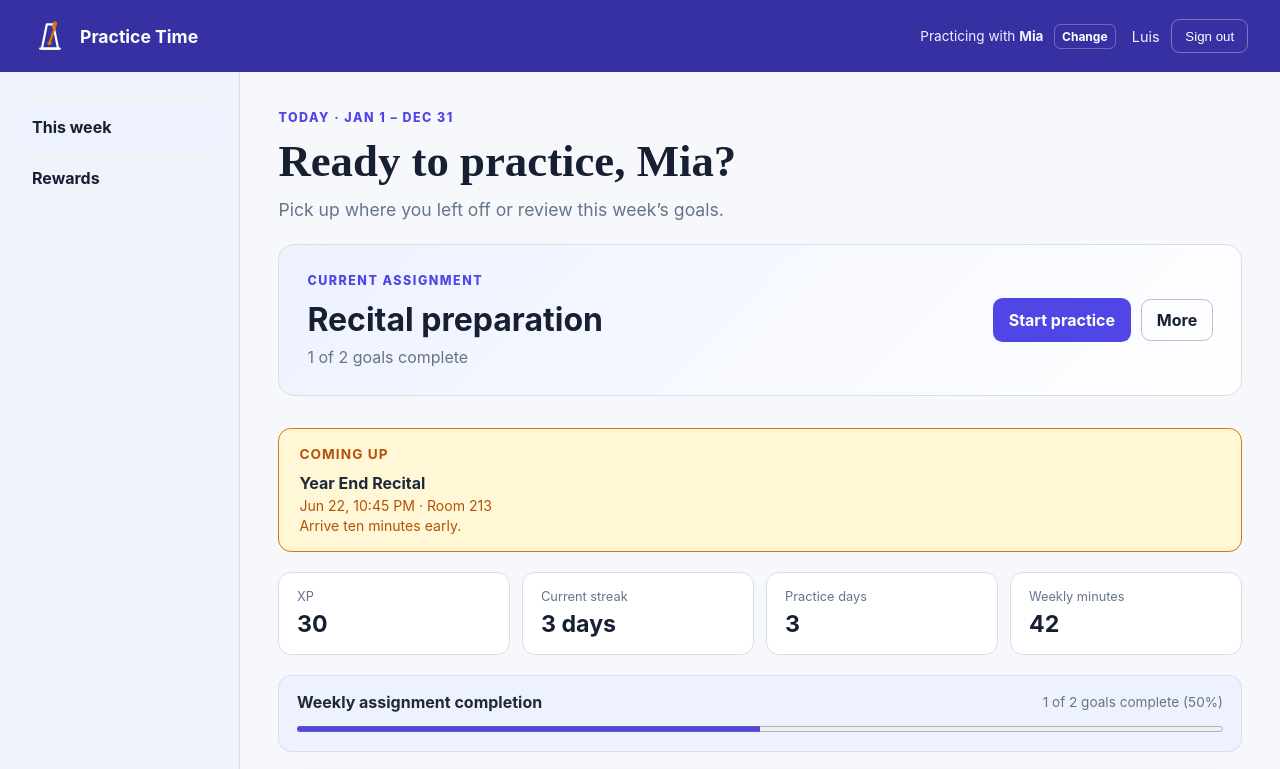
Test: authentication flow › shows the selected student current assignment, progress, notices, and rewards
Check: the heading "Ready to practice, Mia?" is shown, box x1=278 y1=137 x2=736 y2=187
Check: the text "Year End Recital" is shown, box x1=299 y1=473 x2=425 y2=493
Click the link "Start practice".
click(1062, 320)  # box x1=993 y1=298 x2=1131 y2=342
(page scrolled)
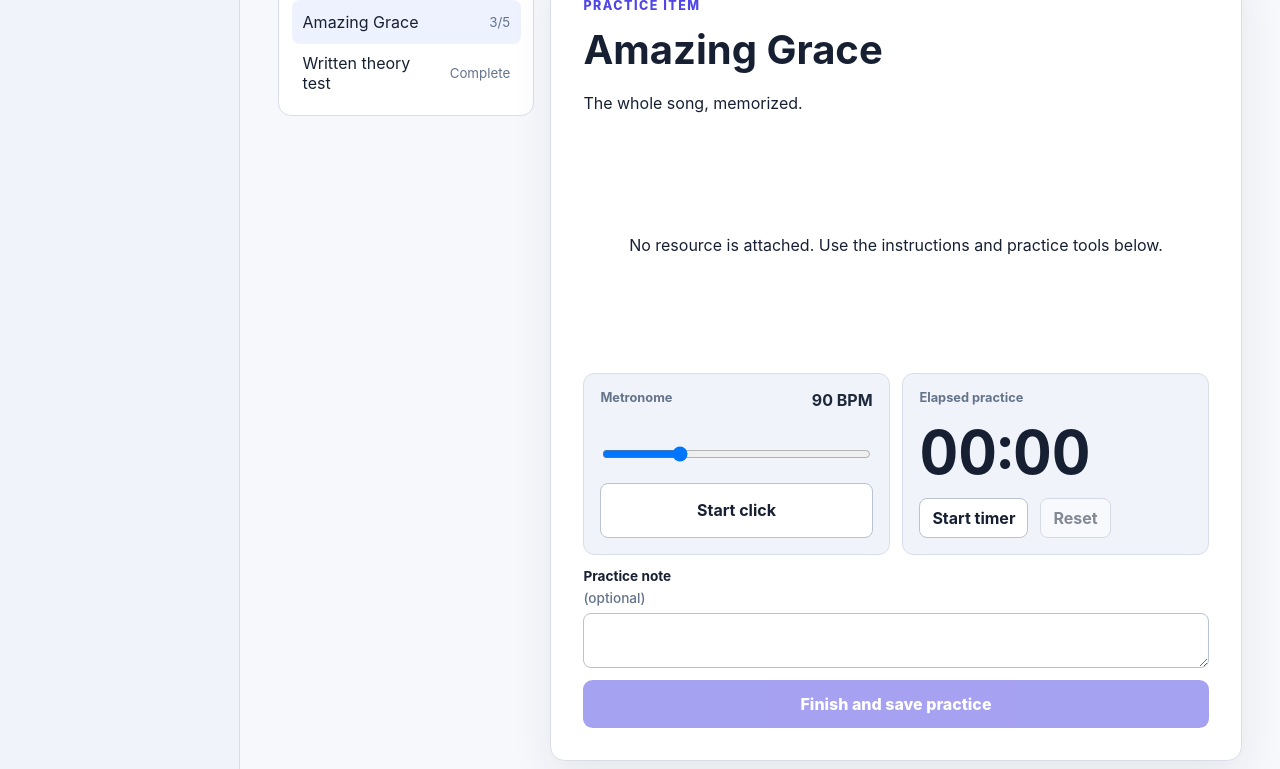
Check: the text "The whole song, memorized." is shown, box x1=583 y1=93 x2=803 y2=113
Check: the element named "Practice timer and metronome" is shown, box x1=583 y1=373 x2=1209 y2=728
Check: the button "Start timer" is shown
Click the button "Start timer".
click(974, 518)  # box x1=919 y1=498 x2=1028 y2=538
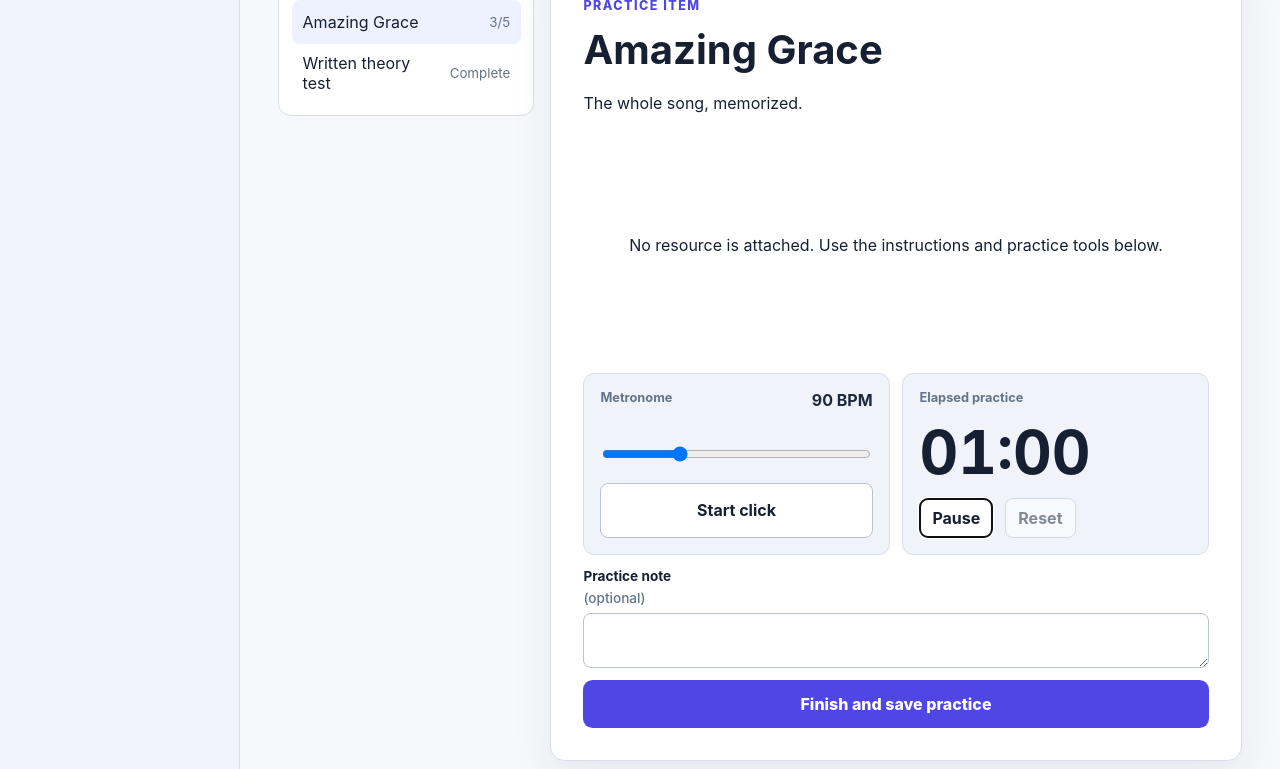
Check: the text "01:00" is shown, box x1=919 y1=416 x2=1091 y2=488
Click the button "Pause".
click(956, 518)  # box x1=919 y1=498 x2=993 y2=538
(page scrolled)
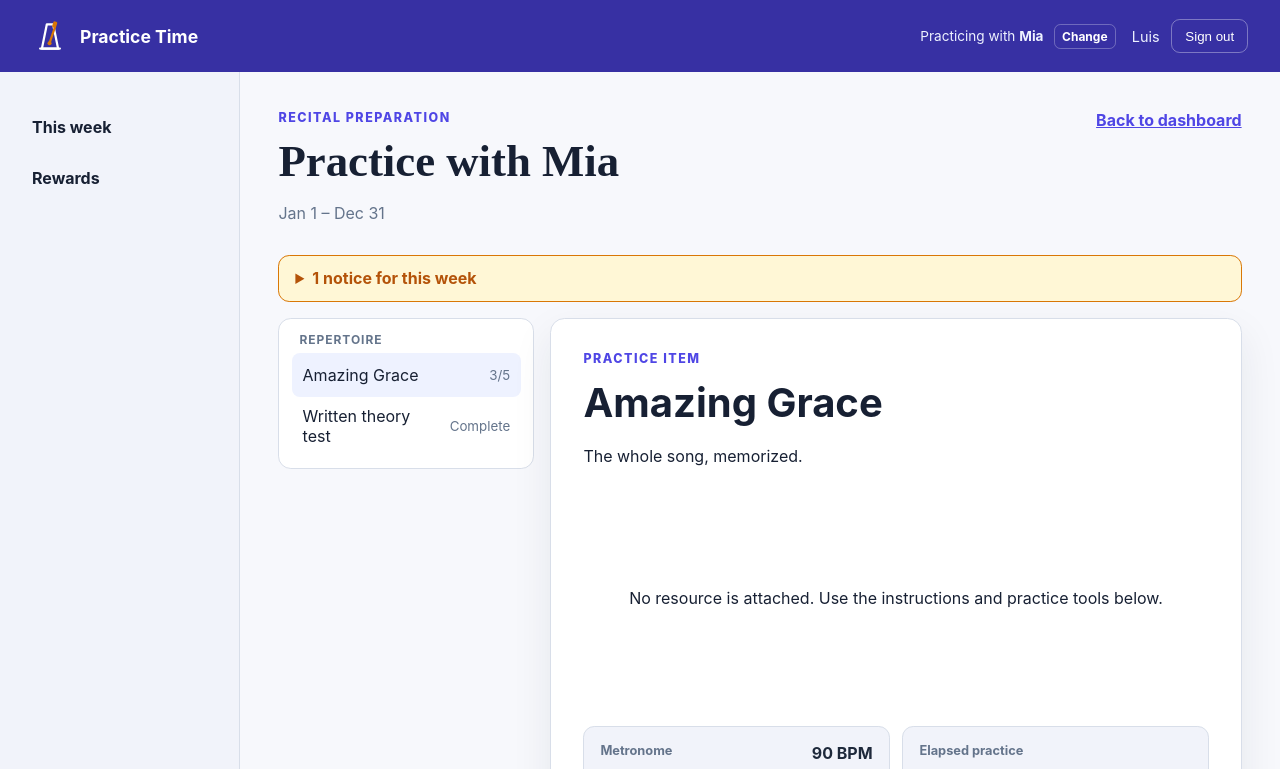
Click the link "Rewards".
click(66, 178)  # box x1=32 y1=168 x2=100 y2=188
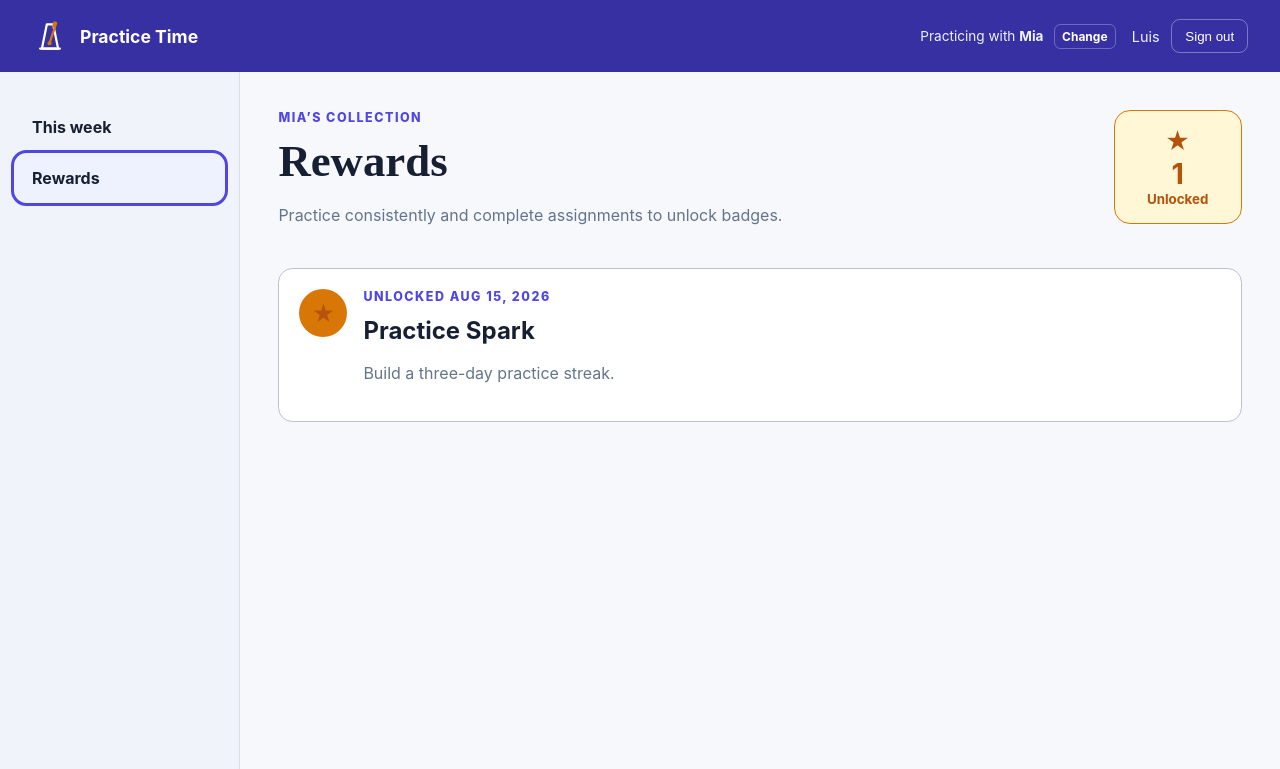
Check: the heading "Rewards" is shown, box x1=278 y1=136 x2=448 y2=186
Check: the heading "Practice Spark" is shown, box x1=363 y1=316 x2=535 y2=345
Click the link "Change".
click(1085, 36)  # box x1=1054 y1=24 x2=1116 y2=48
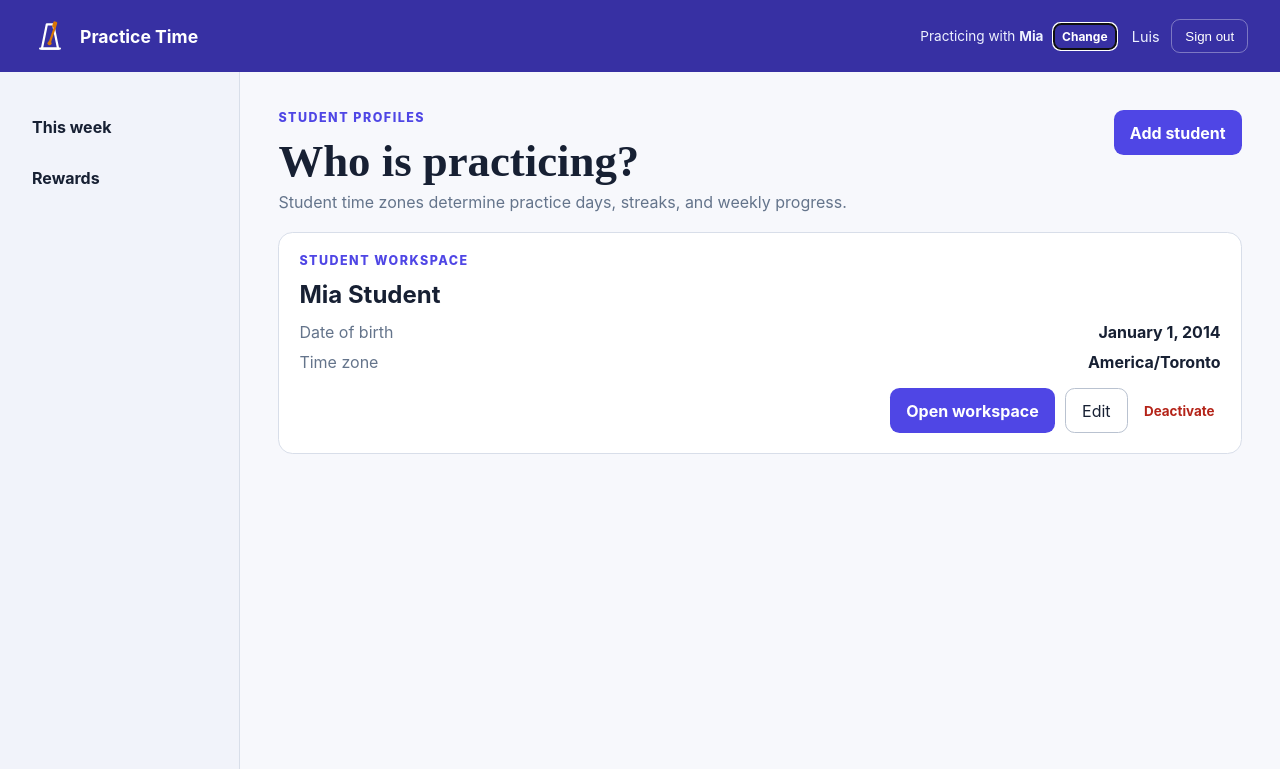
Check: the link "This week" is shown, box x1=32 y1=117 x2=112 y2=137
Check: the heading "Who is practicing?" is shown, box x1=278 y1=136 x2=639 y2=186
